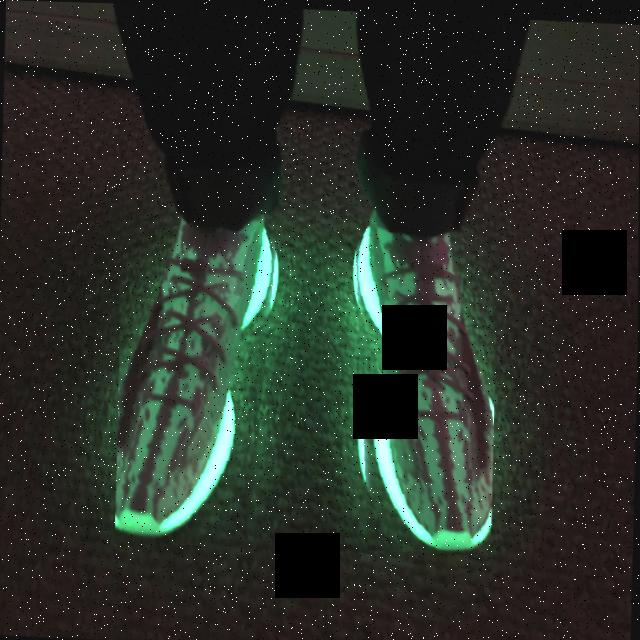shoe: (115, 166, 284, 549), (345, 195, 499, 553)
